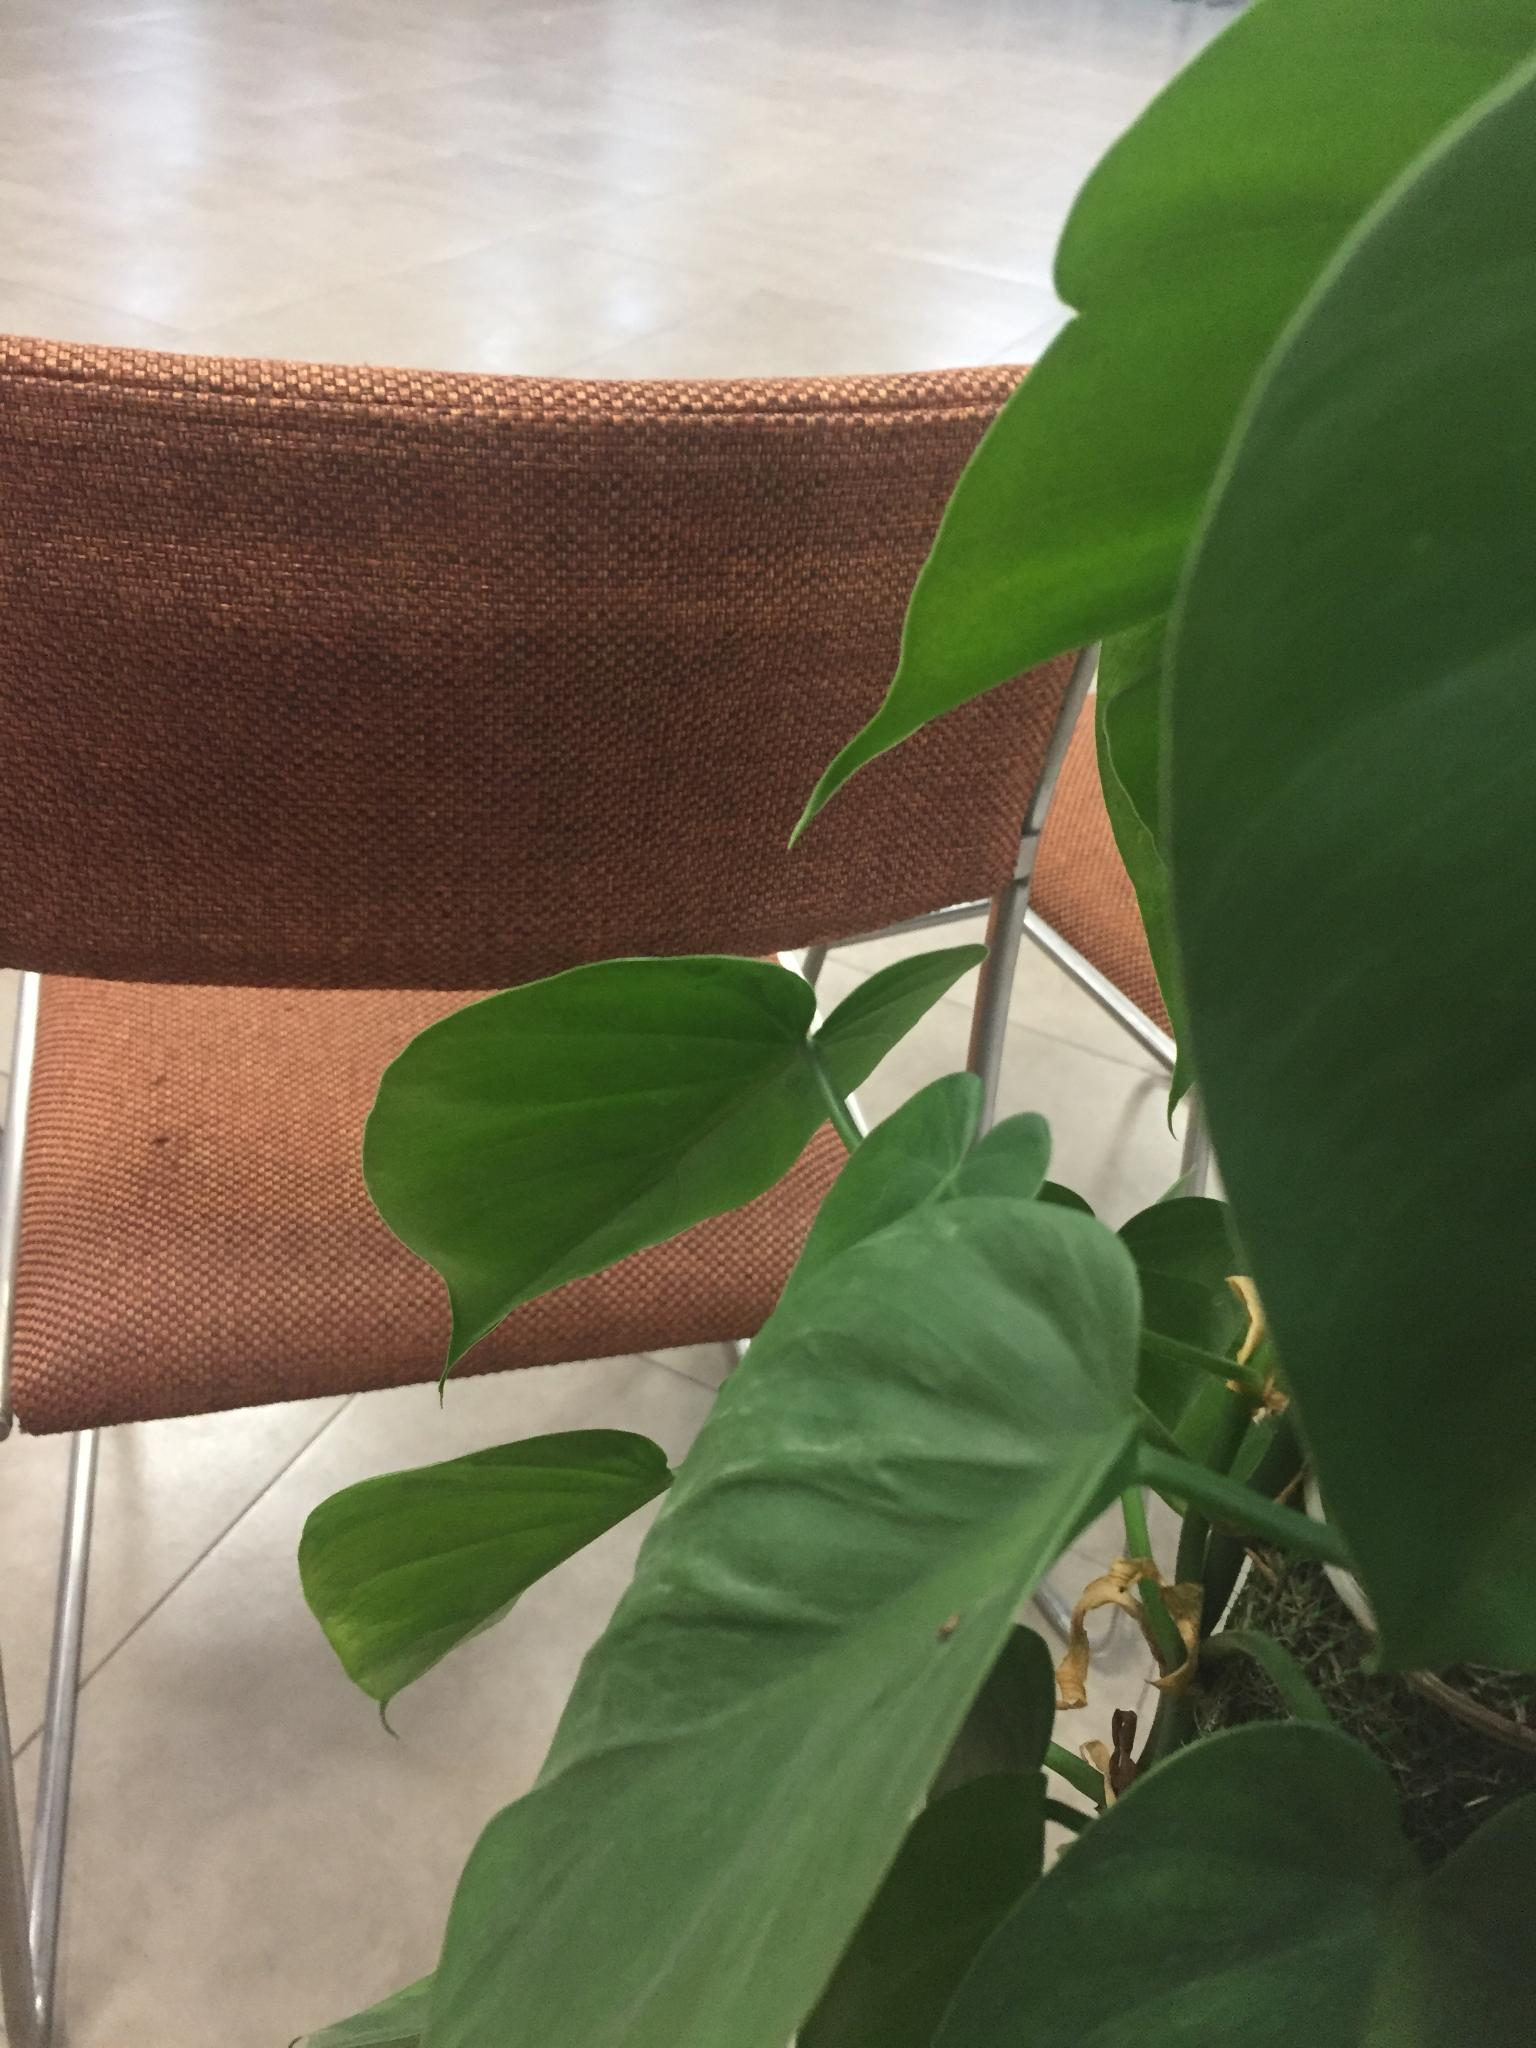chair: (2, 331, 1178, 2045), (907, 184, 1536, 1474)
